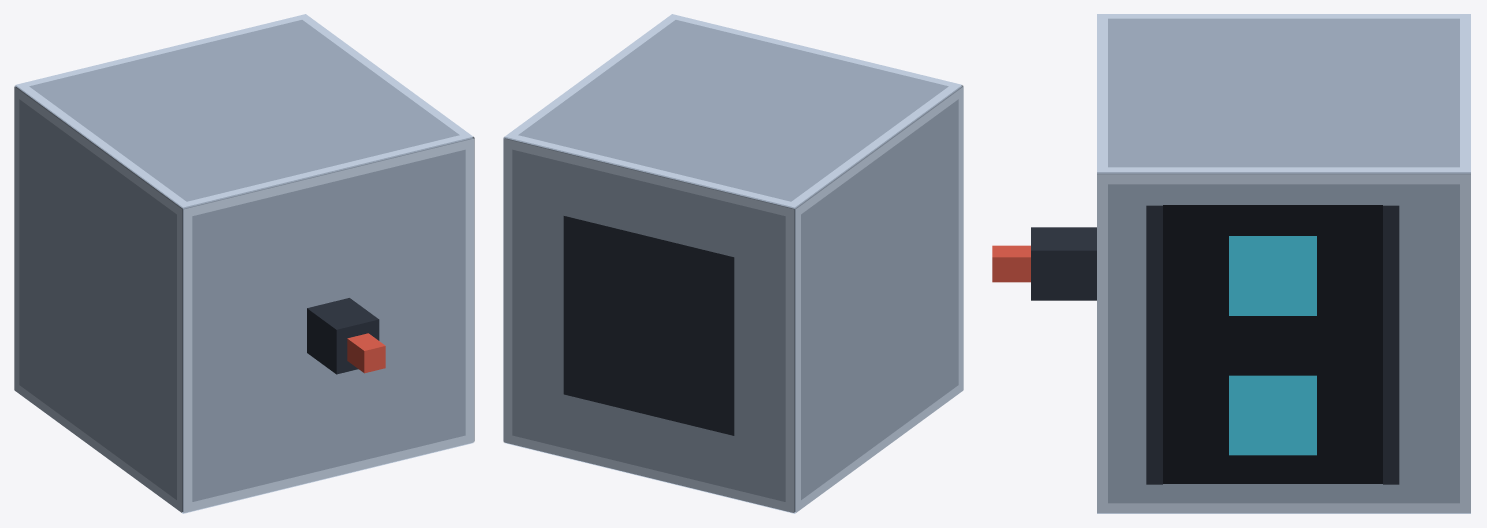
File: robot_head.obj
The picture shows the model from 3 angles, left to right: view 1: azimuth 30°, elevation 25°; view 2: azimuth 150°, elevation 25°; view 3: azimuth 270°, elevation 25°; orthographic projection. The views are drawn at different scales.
Visible parts, largest first — view 1: body, decal, antenna; view 2: body, decal; view 3: body, decal, antenna.
Part boxes in pixels (bbox=[...]): body: bbox=[15, 20, 473, 512]; decal: bbox=[14, 14, 474, 513]; antenna: bbox=[307, 298, 385, 374]; body: bbox=[504, 20, 962, 512]; decal: bbox=[503, 14, 963, 513]; body: bbox=[1097, 18, 1470, 503]; decal: bbox=[1097, 14, 1470, 513]; antenna: bbox=[992, 227, 1096, 300].
Bounding box in the file's own units: 0.695 × 0.686 × 0.873.
